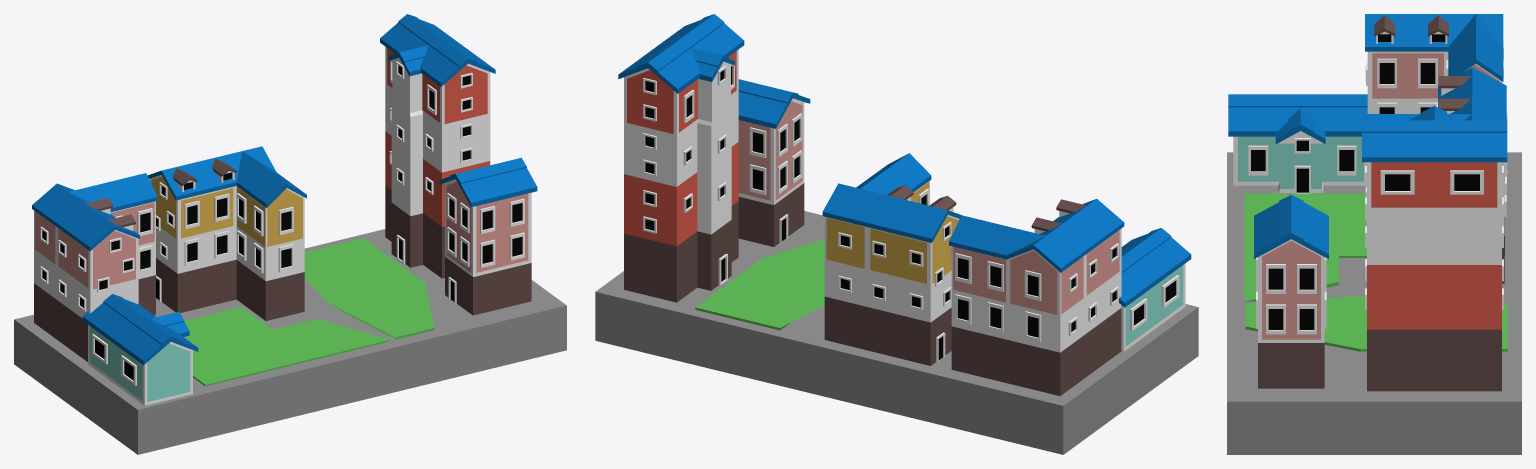
3 renders of one model, left to right at view 1: azimuth 30°, elevation 25°; view 2: azimuth 150°, elevation 25°; view 3: azimuth 270°, elevation 25°, orthographic. The views are drawn at different scales.
Parts seen in each view (by area): view 1: Mesh_1x2_V3, Mesh_1x2_V3.002, Mesh_1x2_V3.001; view 2: Mesh_1x2_V3, Mesh_1x2_V3.002, Mesh_1x2_V3.001; view 3: Mesh_1x2_V3, Mesh_1x2_V3.001, Mesh_1x2_V3.002.
Boxes of the visible parts, box(x1,y1,x2,y2) form: Mesh_1x2_V3: box(32, 14, 537, 405); Mesh_1x2_V3.002: box(14, 298, 352, 454); Mesh_1x2_V3.001: box(293, 229, 566, 402); Mesh_1x2_V3: box(618, 14, 1191, 395); Mesh_1x2_V3.002: box(829, 304, 1198, 454); Mesh_1x2_V3.001: box(595, 211, 836, 397); Mesh_1x2_V3: box(1228, 14, 1507, 391); Mesh_1x2_V3.001: box(1227, 277, 1521, 454); Mesh_1x2_V3.002: box(1227, 152, 1521, 276).
Size of the model in its own units: 200 by 116 by 100.
